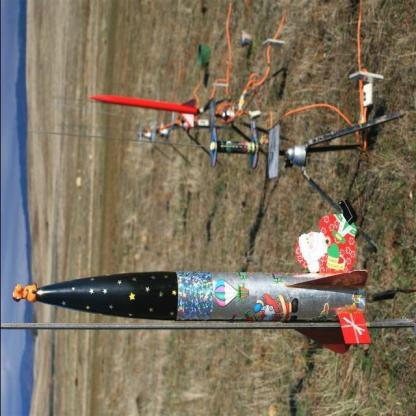MIL_TBM: (14, 273, 365, 326), (82, 93, 200, 120)
